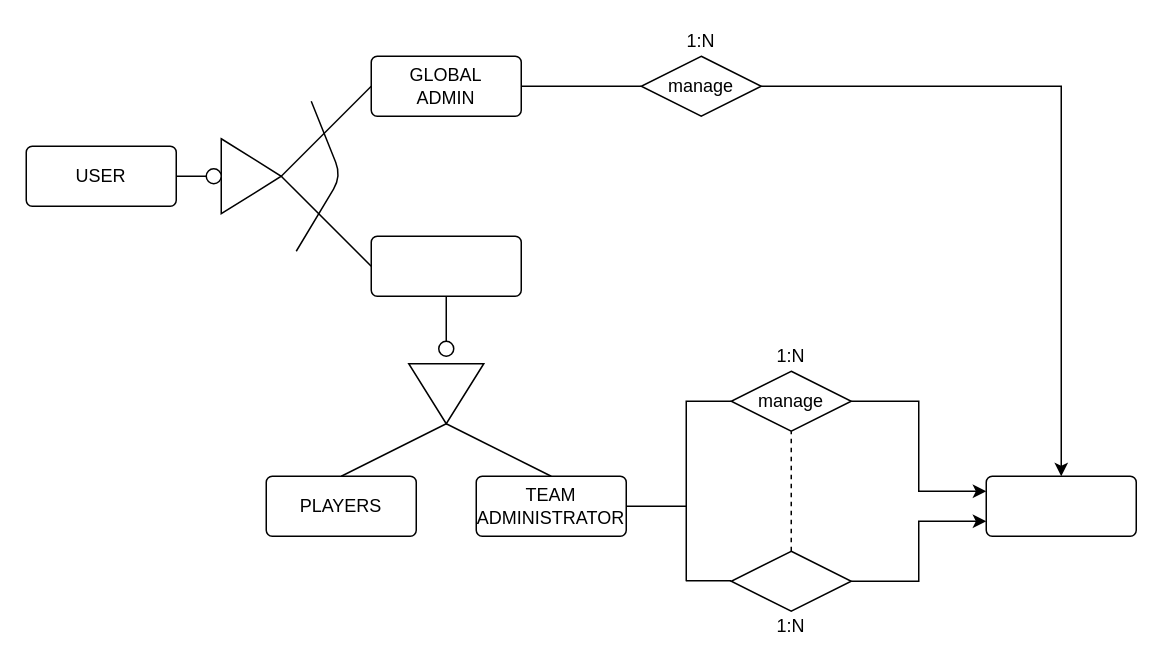
The diagram is 1163 pixels wide and 666 high, and some of its shapes have lost their labels. Here are the shapes that lost their labels. From the top down, the centre of each, then its label:
point 445,265: TEAM
point 1060,505: TOURNAMENT
point 790,580: take part in
